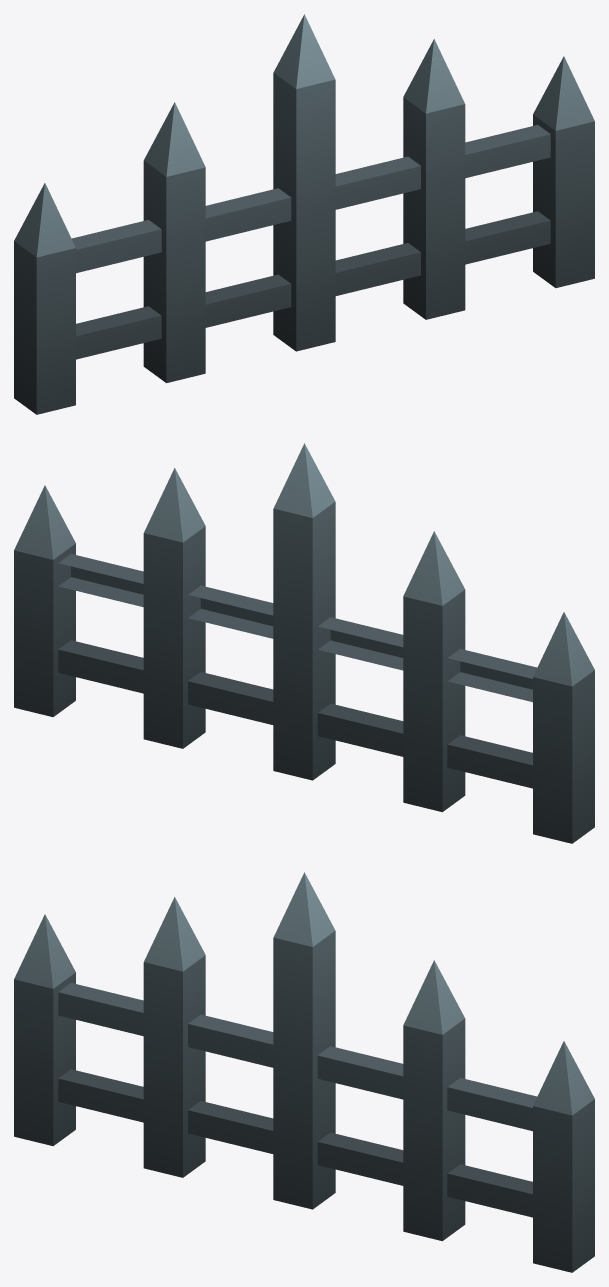
Rendered from fence gothic.fbx.
The picture shows the model from 3 angles, top to bottom: view 1: azimuth 30°, elevation 25°; view 2: azimuth 150°, elevation 25°; view 3: azimuth 330°, elevation 25°; orthographic projection.
Visible parts, largest first — view 1: fence_gothic_1; view 2: fence_gothic_1; view 3: fence_gothic_1.
Part boxes in pixels (box(x1,y1,x2,y2)): fence_gothic_1: box(14, 14, 594, 414); fence_gothic_1: box(14, 443, 594, 843); fence_gothic_1: box(14, 872, 594, 1272).
Bounding box in the file's own units: 466 × 259 × 32.82.
Materials: 1 (1 with a texture image).
